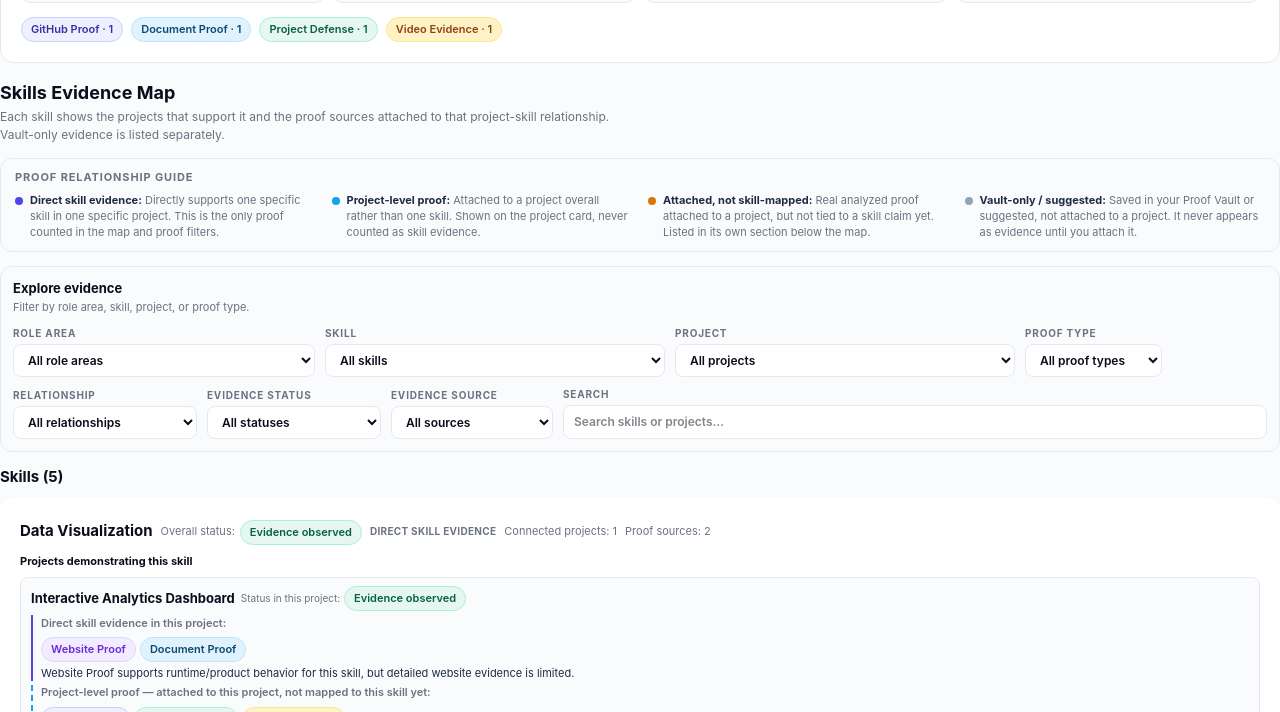
Test: Verified Passport Card preview (private) › clicking a card role chip resets the low-level Skill filter to all
(page scrolled)
Pre-select a low-level skill in the dropdown.
Select "Docker — 1 project · GitHub · Defense" in the dropdown with test id "passport-skill-filter": [495, 360] box [325, 344, 665, 377]
(page scrolled)
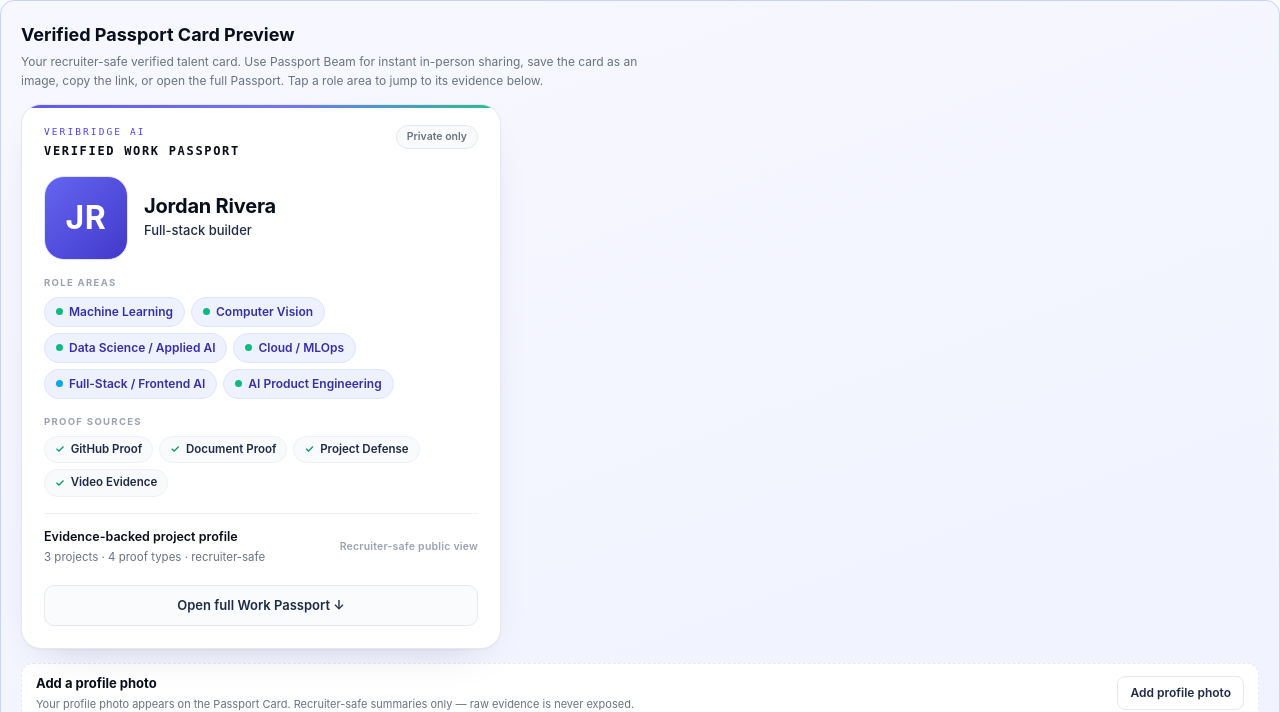
Clicking a card role chip clears it back to "all underlying skills".
Click the button with test id "passport-card-capability" showing "Computer Vision": [258, 312] box [191, 297, 325, 327]
(page scrolled)
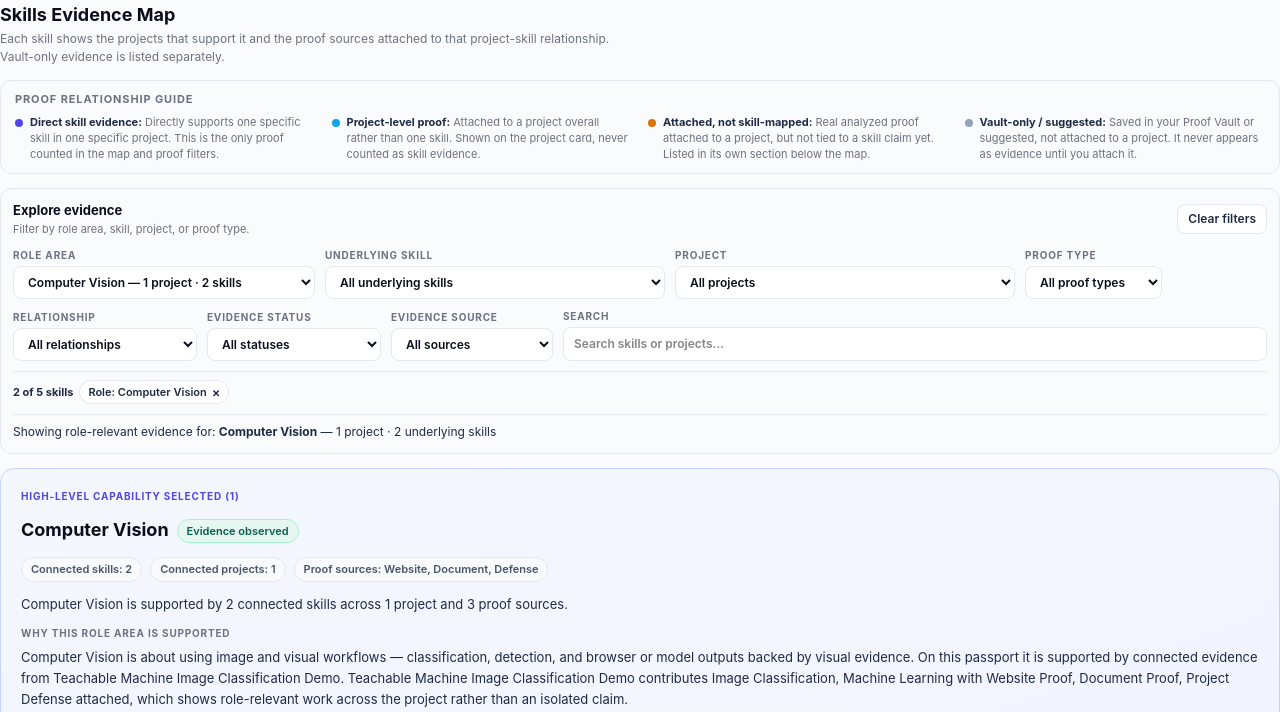
Check: the dropdown with test id "passport-role-area-filter" shows "Computer Vision — 1 project · 2 skills", box [13, 266, 315, 299]
